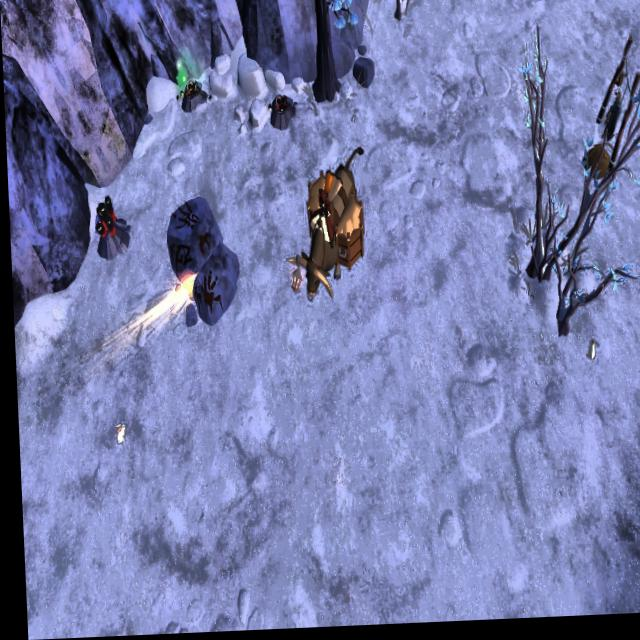ore_t5: (91, 192, 118, 245)
